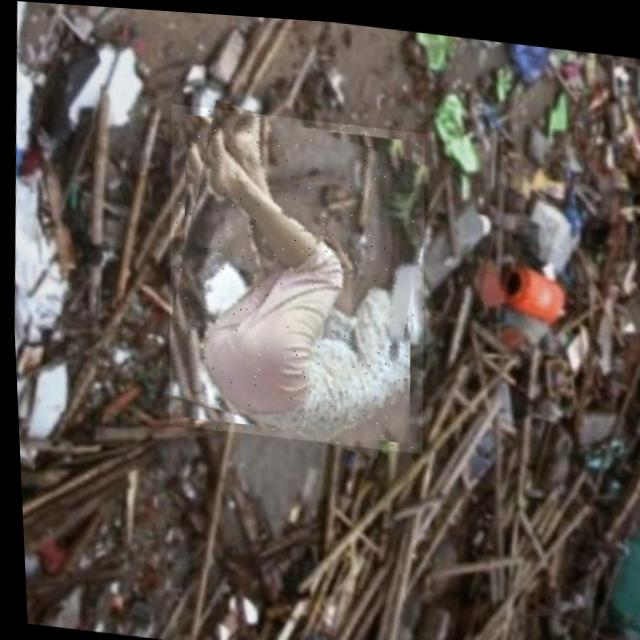Person in Rubble: (153, 100, 434, 449)
